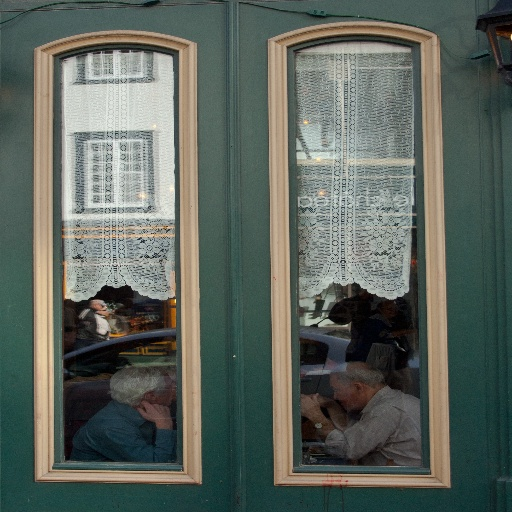hand: (136, 398, 172, 420), (302, 393, 321, 417)
